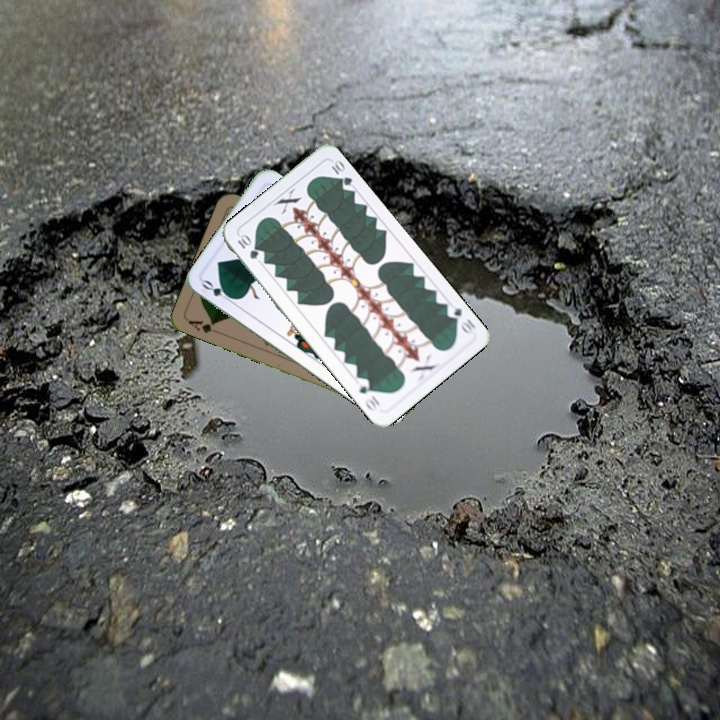G10: (442, 303, 478, 337), (233, 230, 261, 262)
GA: (184, 316, 223, 336)
GO: (198, 276, 237, 305)
